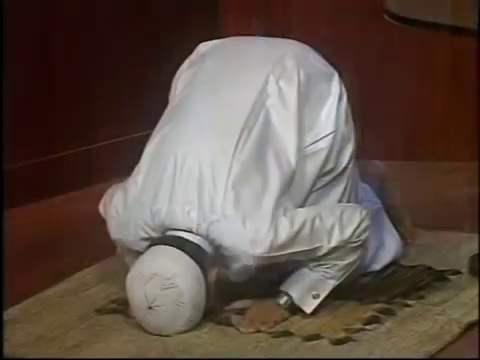sujud: (98, 35, 414, 336)
